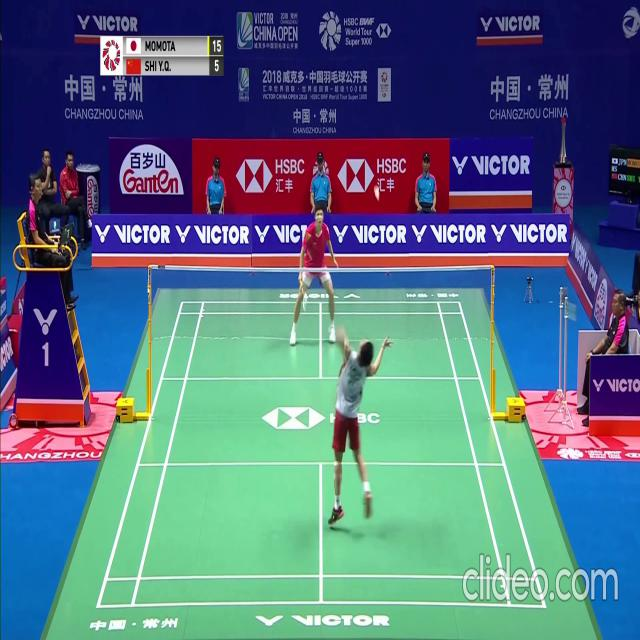Shuttlecock: (375, 192, 380, 199)
